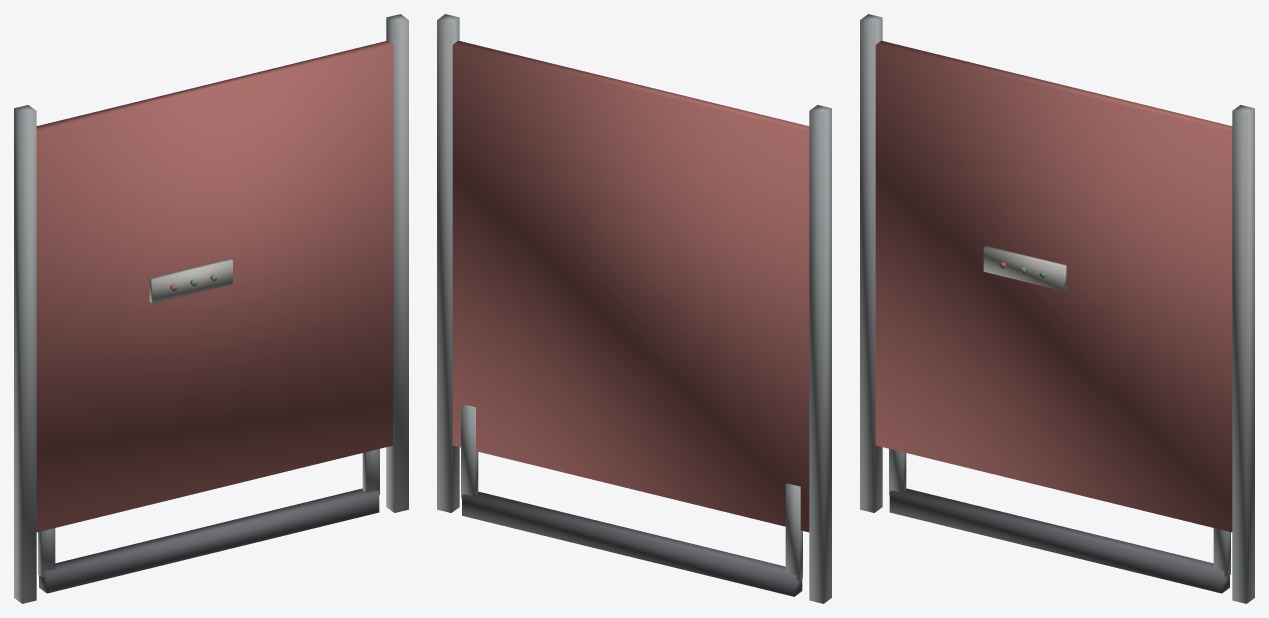
File: welding_screen__reinforced.glb
3 views of the same model, side by side, from view 1: azimuth 30°, elevation 25°; view 2: azimuth 150°, elevation 25°; view 3: azimuth 330°, elevation 25° (orthographic).
Parts seen in each view (by area): view 1: world; view 2: world; view 3: world.
Part boxes in pixels (<box>): world: <box>14,14,408,603</box>; world: <box>437,14,831,603</box>; world: <box>860,14,1254,603</box>.
Bounding box in the file's own units: 1.39 × 1.68 × 0.0967.
